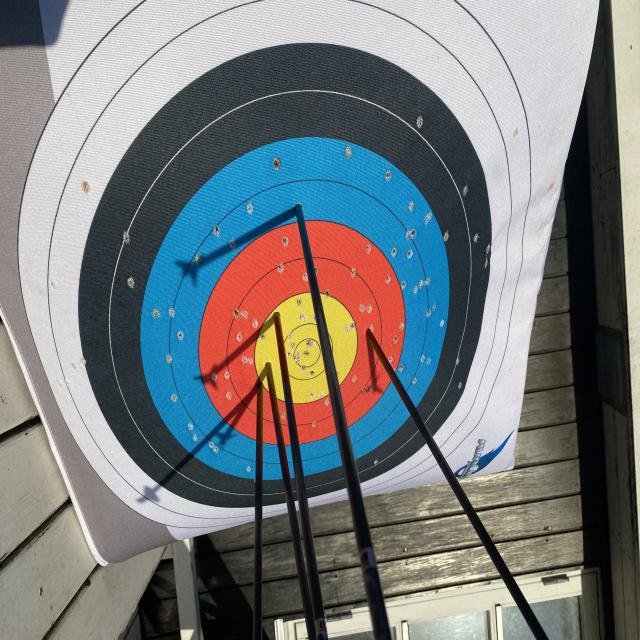Arrow_Blue: (286, 190, 316, 227)
Arrow_Red: (364, 318, 379, 354), (254, 370, 266, 399)
Arrow_Yellow: (264, 302, 289, 333), (261, 355, 276, 382)
